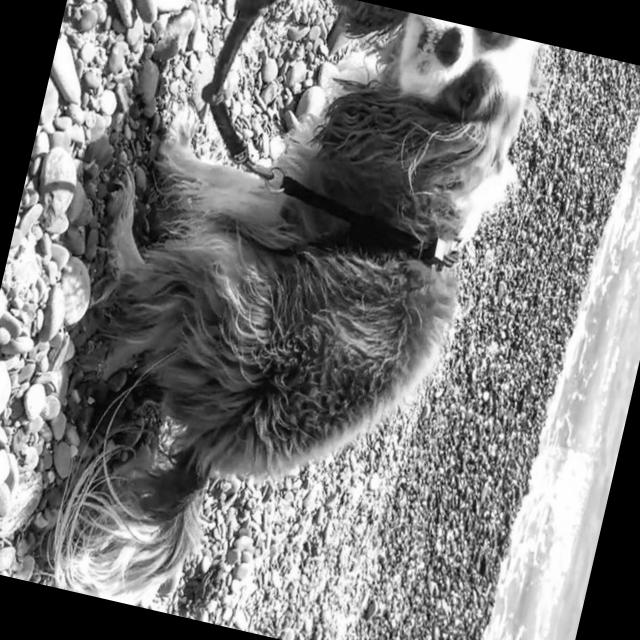squatting: (19, 0, 545, 640)
